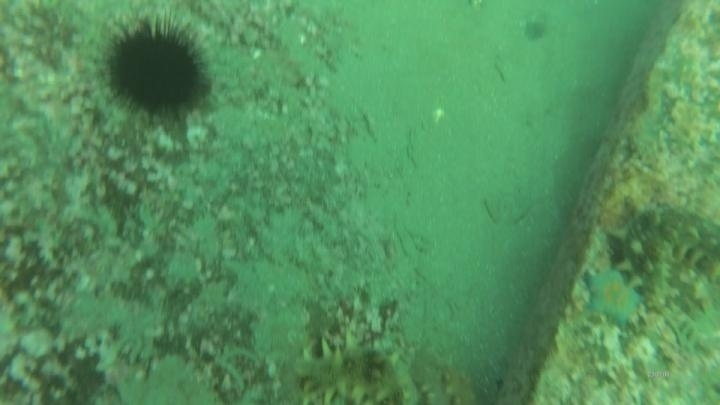echinus: (102, 15, 212, 125)
holothurian: (606, 199, 720, 308), (286, 338, 423, 404), (413, 352, 483, 405)
starfish: (579, 265, 647, 331)
